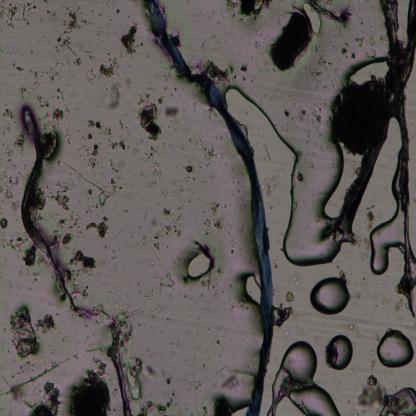Air bubble: (273, 342, 341, 415), (320, 137, 362, 227), (370, 206, 405, 275), (181, 240, 219, 284), (309, 276, 350, 316), (377, 328, 414, 368), (350, 53, 393, 86), (326, 334, 355, 374), (240, 270, 264, 308), (303, 1, 321, 36)
Background material: (336, 72, 388, 153), (273, 9, 315, 72), (5, 357, 64, 400), (358, 373, 416, 415), (67, 361, 110, 414), (19, 58, 65, 102), (6, 305, 40, 355), (56, 5, 86, 52), (84, 117, 110, 169), (154, 207, 184, 251), (27, 381, 62, 415), (300, 102, 327, 146), (136, 102, 163, 142), (274, 286, 296, 330), (0, 2, 37, 27), (134, 394, 176, 416), (144, 144, 163, 192), (315, 0, 350, 25), (136, 297, 171, 322), (52, 172, 76, 208), (203, 60, 233, 88), (40, 127, 62, 162), (0, 169, 24, 201), (0, 231, 26, 259), (118, 24, 140, 57), (52, 210, 84, 231), (197, 135, 216, 170), (218, 366, 248, 388), (95, 55, 120, 80), (172, 177, 192, 208), (85, 217, 111, 240), (68, 251, 96, 272), (108, 152, 125, 185), (202, 202, 222, 230), (235, 1, 270, 16), (0, 110, 17, 140), (34, 313, 56, 336), (352, 237, 370, 265), (106, 81, 122, 112), (355, 30, 375, 54), (338, 316, 360, 337), (337, 38, 358, 60), (156, 269, 176, 292), (47, 106, 67, 128), (70, 279, 92, 297), (14, 129, 31, 152), (51, 230, 72, 247), (22, 246, 38, 268), (256, 138, 270, 163), (263, 174, 280, 194), (158, 366, 175, 386), (138, 86, 156, 104), (161, 102, 180, 119), (236, 60, 252, 78), (1, 142, 13, 164), (221, 212, 232, 236), (184, 130, 198, 148), (182, 379, 207, 389), (38, 6, 56, 19), (363, 209, 374, 230), (198, 393, 208, 416), (96, 254, 110, 270), (110, 139, 126, 153), (361, 276, 374, 293), (96, 192, 111, 206), (87, 65, 97, 86), (348, 292, 362, 307), (280, 102, 293, 117), (117, 119, 129, 135), (144, 363, 157, 377), (64, 126, 73, 146), (85, 199, 97, 214), (54, 55, 70, 66), (10, 201, 19, 220), (138, 232, 149, 247), (10, 62, 25, 73), (228, 238, 238, 254), (288, 274, 301, 286), (336, 267, 348, 280), (81, 49, 95, 60), (395, 300, 405, 315), (0, 213, 8, 231), (72, 56, 84, 68), (5, 278, 16, 291), (156, 92, 166, 106), (127, 225, 136, 240), (110, 185, 122, 195), (131, 140, 141, 152), (380, 294, 390, 306), (31, 270, 39, 285), (160, 185, 168, 199), (146, 287, 154, 301), (237, 201, 247, 212), (186, 164, 196, 174), (296, 172, 305, 183), (207, 172, 219, 180), (161, 142, 173, 150), (114, 300, 122, 312), (108, 253, 117, 263), (124, 76, 132, 87), (202, 361, 210, 371), (186, 313, 194, 322), (85, 186, 94, 194), (370, 358, 376, 370), (150, 258, 157, 268), (61, 332, 68, 342), (312, 336, 320, 344), (135, 288, 142, 296), (114, 211, 122, 218), (369, 346, 376, 354), (214, 339, 222, 346), (113, 386, 118, 397), (165, 317, 174, 323), (117, 290, 125, 296), (50, 349, 56, 356), (123, 207, 129, 214), (26, 287, 32, 292), (151, 314, 156, 320), (167, 341, 173, 346), (28, 49, 33, 55), (144, 213, 147, 222), (137, 223, 141, 229), (137, 280, 141, 286), (231, 306, 235, 312), (139, 323, 142, 330), (162, 86, 167, 90), (152, 339, 157, 343), (214, 290, 218, 295), (172, 350, 176, 355), (211, 284, 215, 289), (103, 244, 106, 250), (224, 204, 227, 210), (230, 284, 233, 290), (183, 294, 187, 298), (146, 346, 149, 351), (200, 293, 203, 298), (47, 41, 50, 46), (112, 249, 115, 253), (176, 343, 180, 346), (43, 0, 47, 3), (168, 124, 170, 129), (185, 361, 188, 364)
Cellulose filter fibre: (331, 0, 416, 239), (20, 106, 96, 319), (273, 84, 345, 269), (379, 1, 416, 318), (99, 310, 132, 414)
Cotton: (146, 0, 273, 416)
